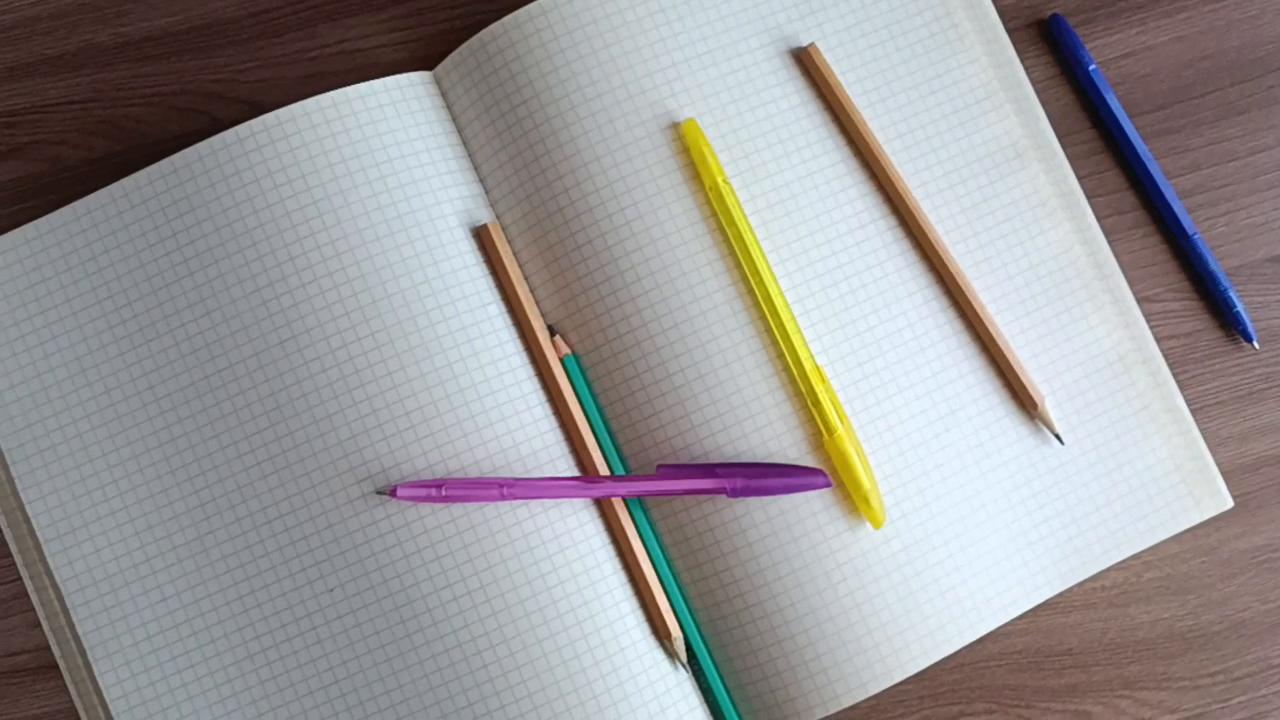pen: (671, 114, 890, 534), (1043, 9, 1264, 361), (364, 459, 842, 505)
pencil: (787, 39, 1068, 450), (471, 215, 692, 675), (550, 323, 741, 720)
